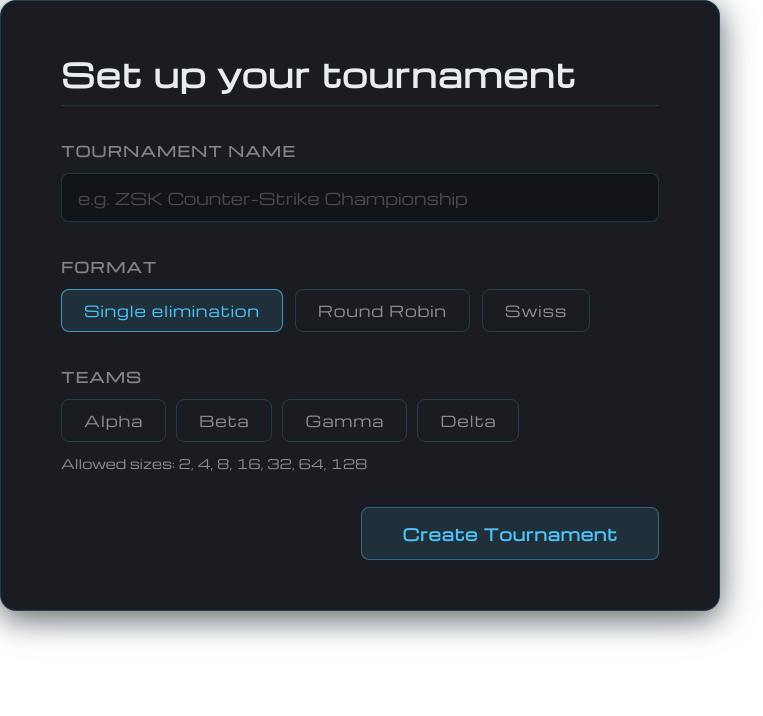
Test: TournamentForm › shows a validation error for single elimination when team count is not a power of 2
Type "Bad Cup" into the field with placeholder "e.g. ZSK Counter-Strike Championship".
click(360, 198); type("Bad Cup")  # box [61,173,659,222]
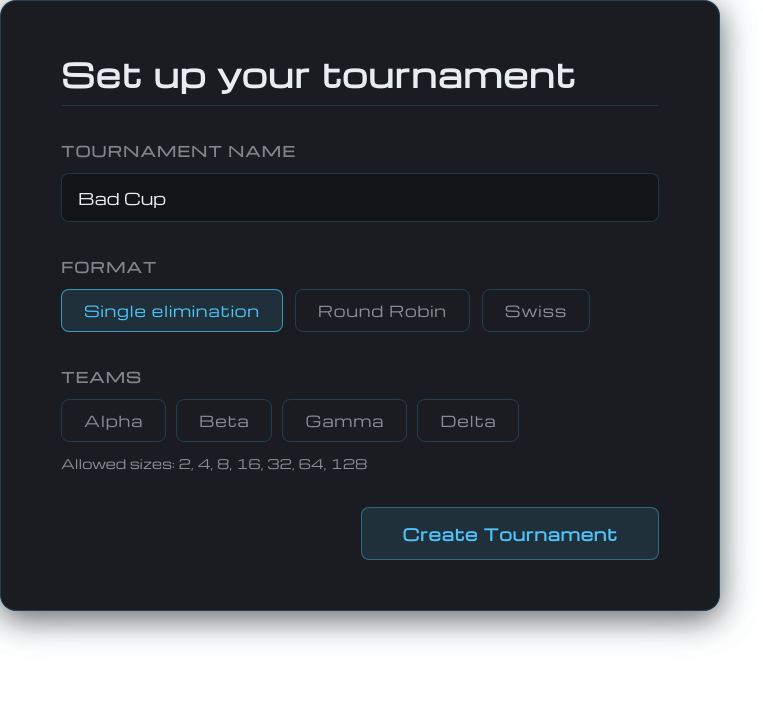
Click the button "Alpha".
click(114, 420)  # box [61,399,166,442]
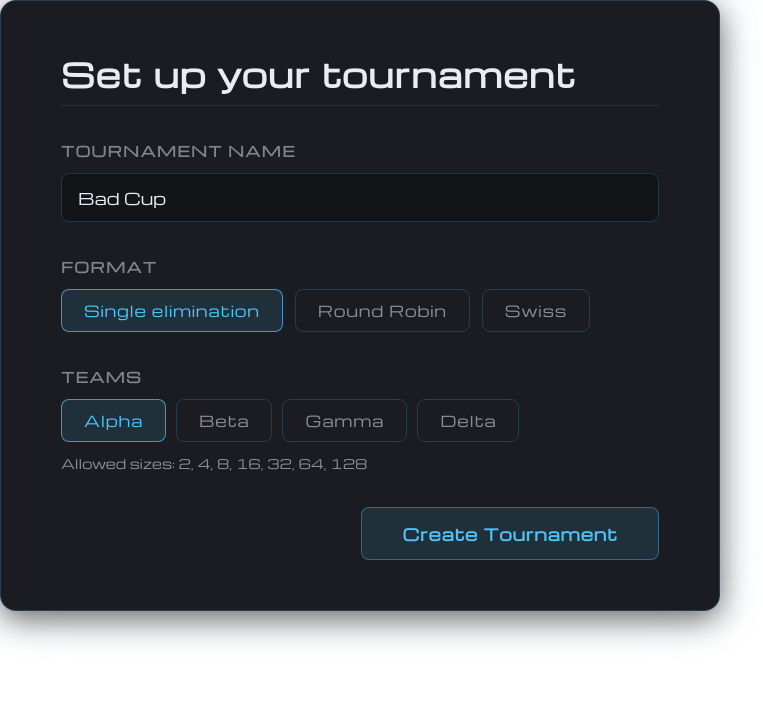
Click the button "Beta".
click(224, 420)  # box [176,399,272,442]
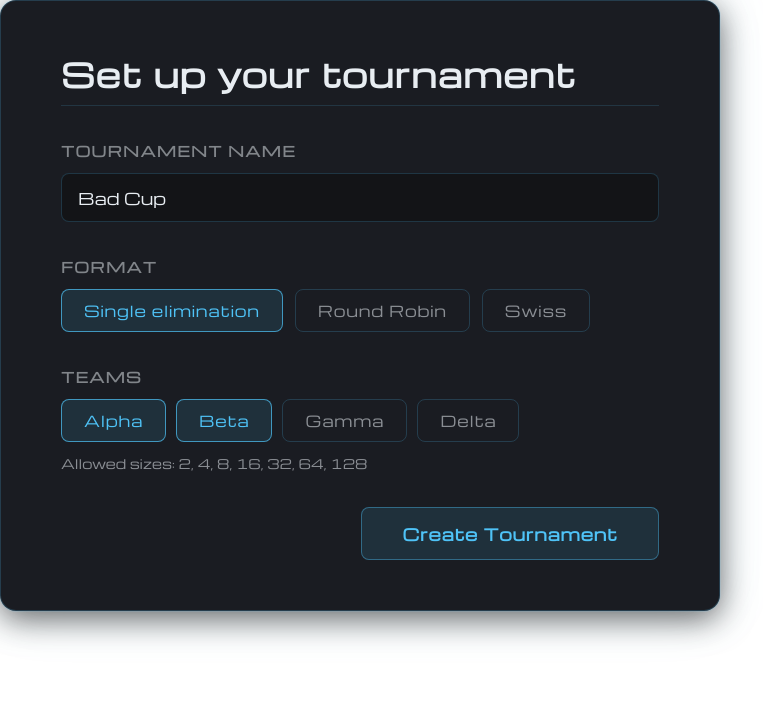
Click the button "Gamma".
click(345, 420)  # box [282,399,407,442]
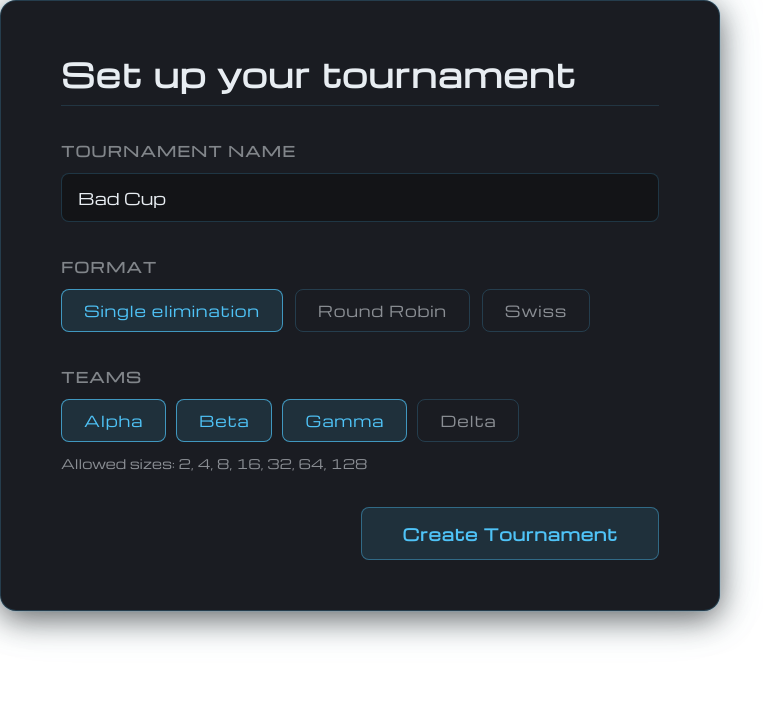
Click the button "Create Tournament".
click(510, 534)  # box [362,507,659,560]
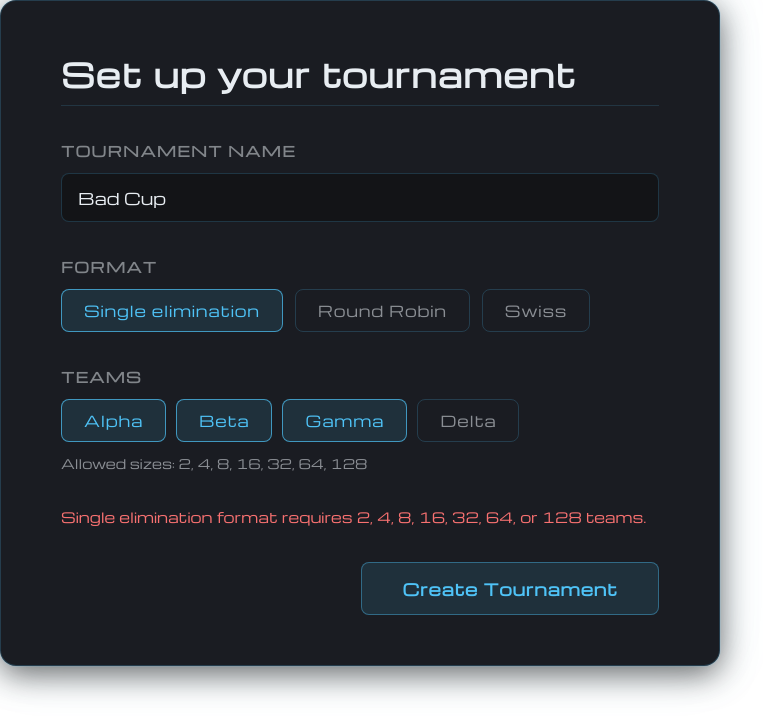
Now the text "Single elimination format requires 2, 4, 8, 16, 32, 64, or 128 teams." is shown, box [61,507,659,527]
